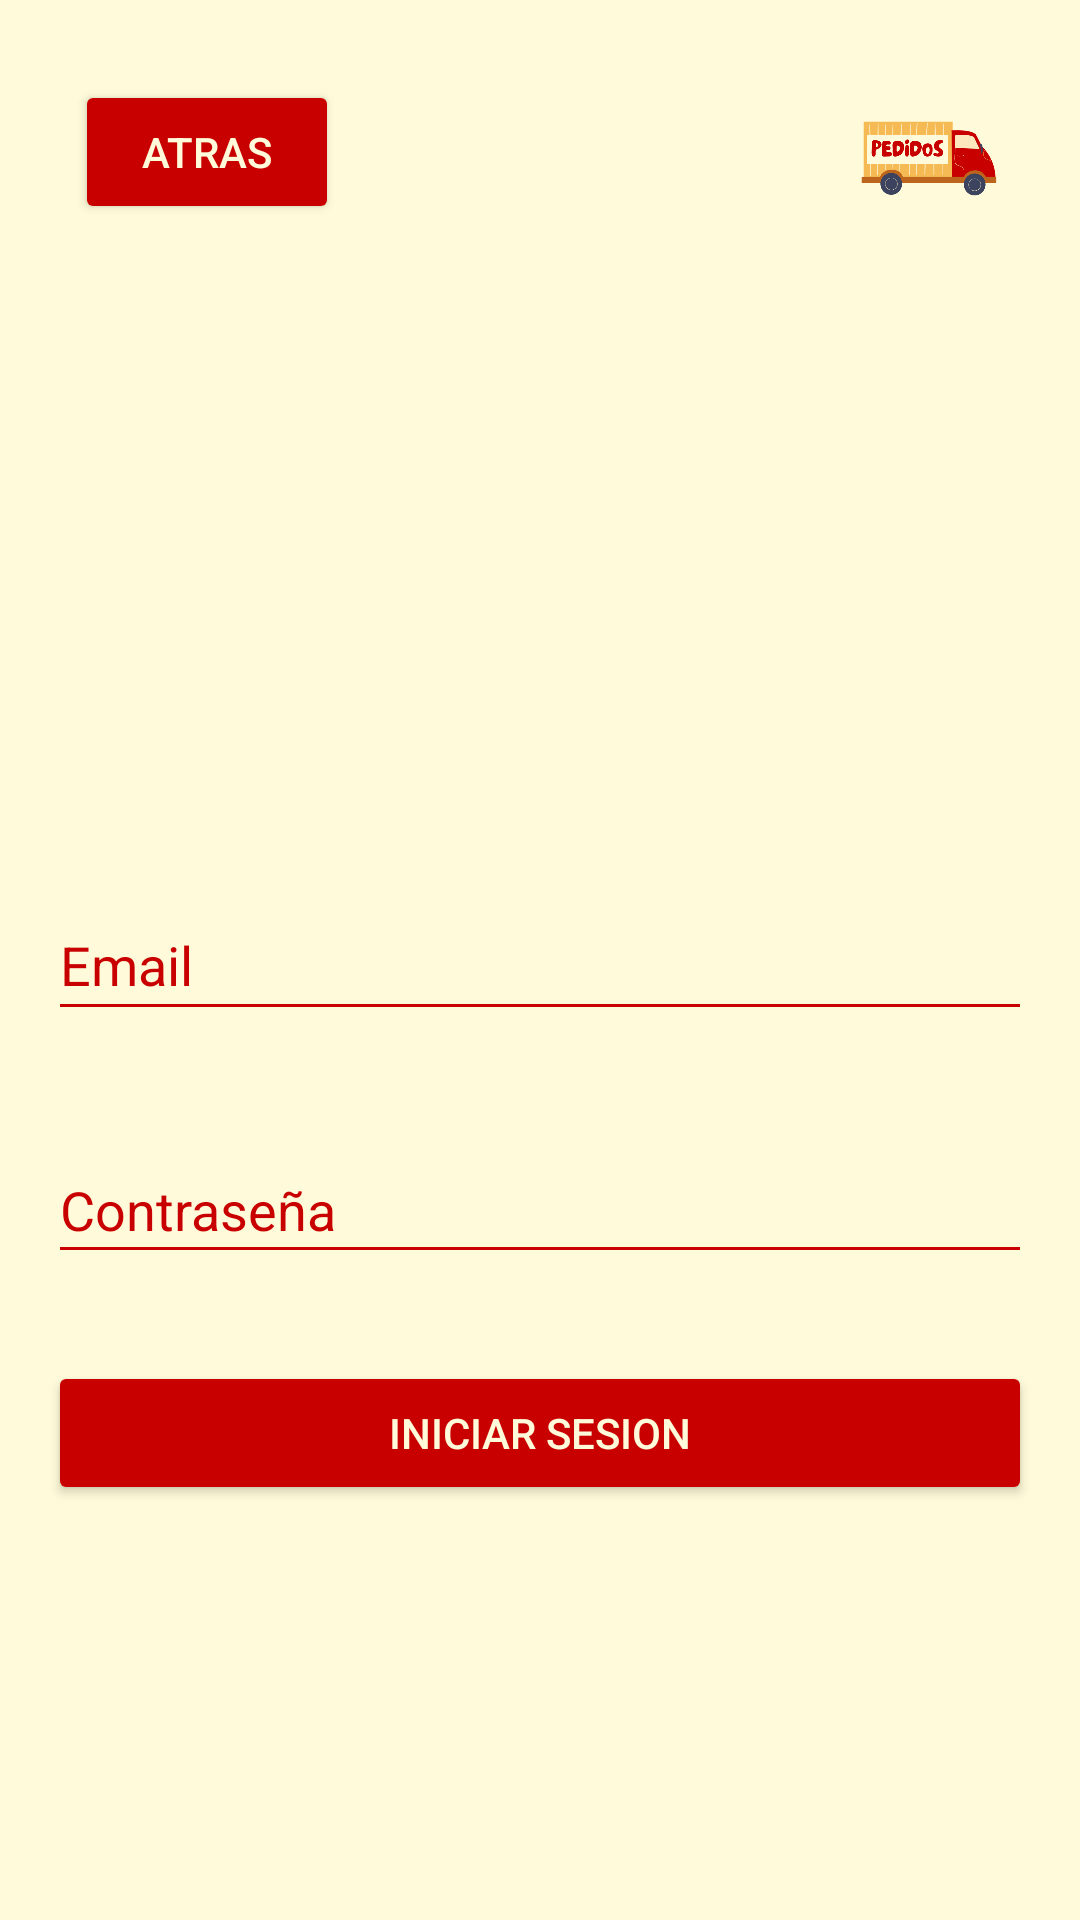

Icon bounding boxes for this 1080px×1920px phone screenshot, format Rect(x1, y1, x2, y2):
camion: Rect(861, 121, 996, 196)
